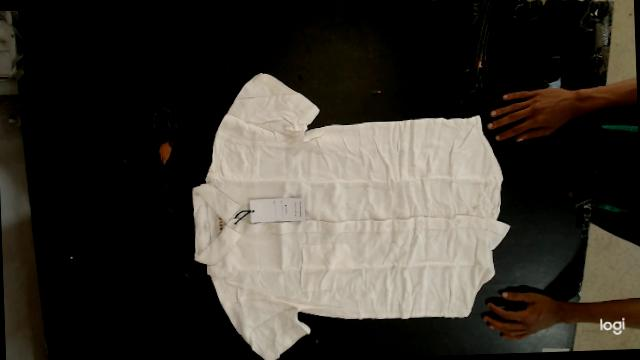new-garment: (193, 74, 510, 360)
